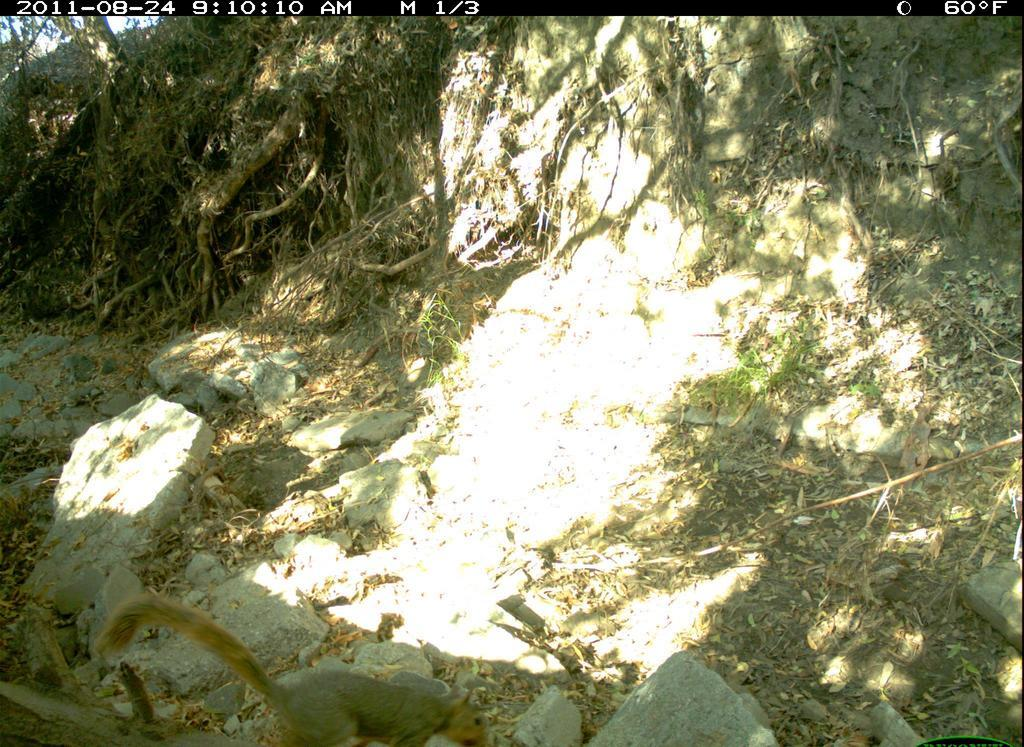squirrel: (78, 574, 515, 747)
